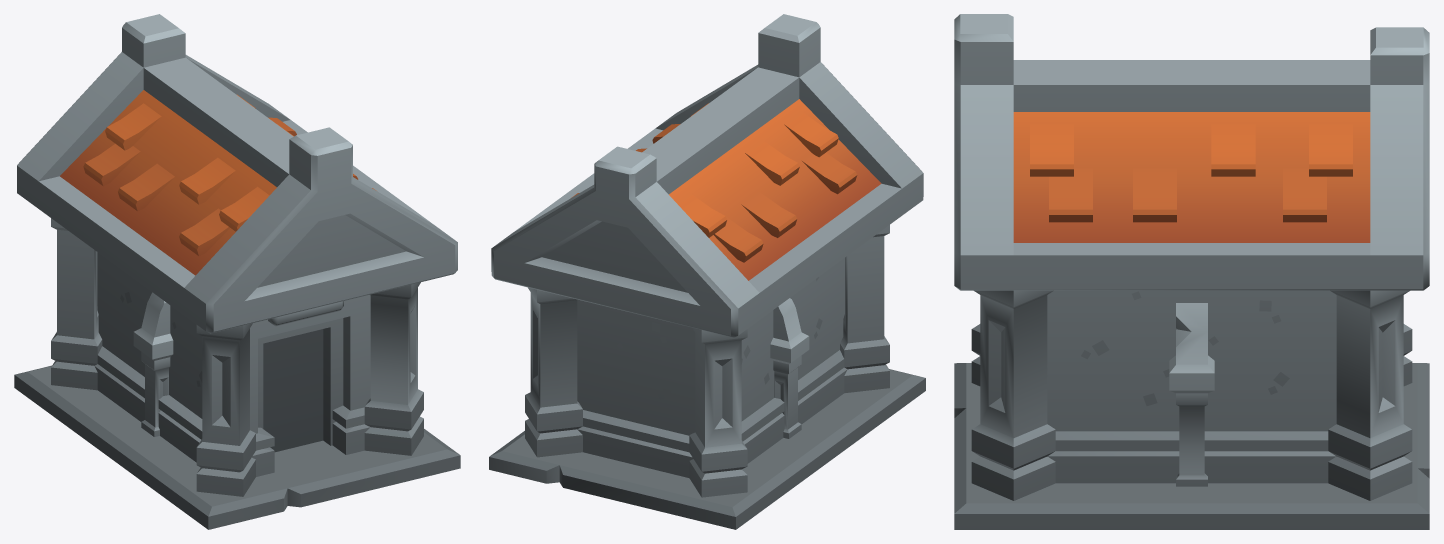
Rendered from graveyard.glb.
The picture shows the model from 3 angles, left to right: view 1: azimuth 30°, elevation 25°; view 2: azimuth 150°, elevation 25°; view 3: azimuth 270°, elevation 25°; orthographic projection. The views are drawn at different scales.
Visible parts, largest first — view 1: crypt, arch; view 2: crypt, arch; view 3: crypt, arch.
Part boxes in pixels (x1,y1,x2,y2): crypt: [14, 14, 460, 529]; arch: [133, 292, 173, 436]; crypt: [489, 14, 925, 529]; arch: [770, 298, 809, 438]; crypt: [954, 14, 1429, 529]; arch: [1169, 303, 1214, 486].
Size of the model in its own units: 4.5 by 6.65 by 6.
1 material, 1 textured.
